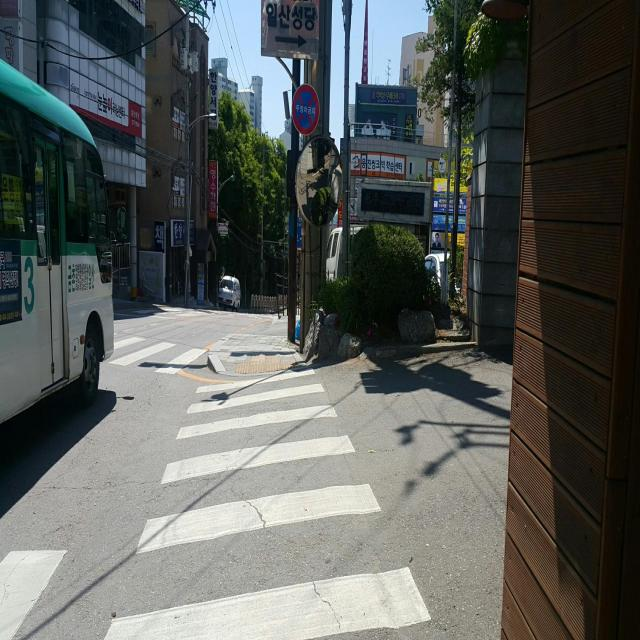횡단보도: (100, 362, 433, 640)
